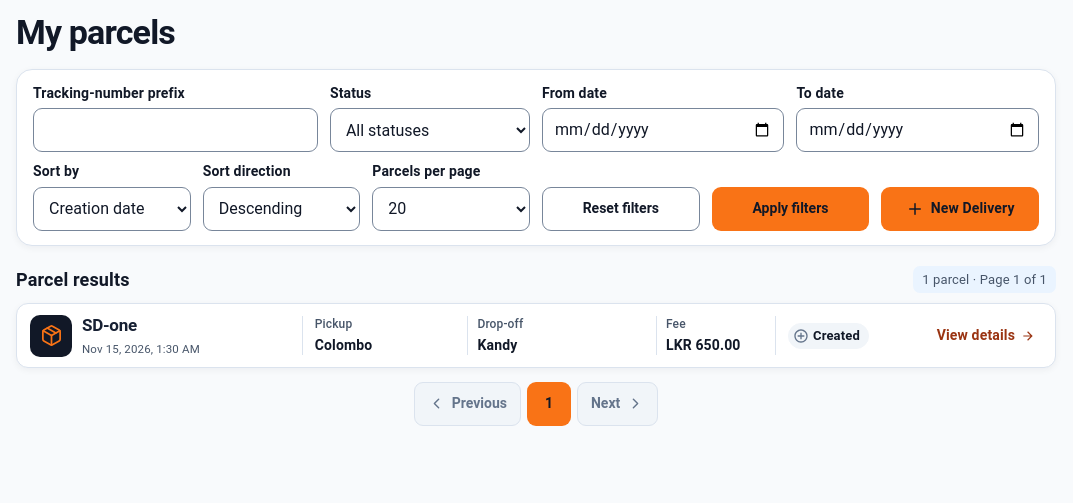
TST-040 my parcels › rejects reversed date ranges without making a request
Expected: the link "SD-one" is shown, [82,316,137,336]
Type "2026-11-15" into the date field labelled "From date" at (663, 130), box [542,108,784,152]
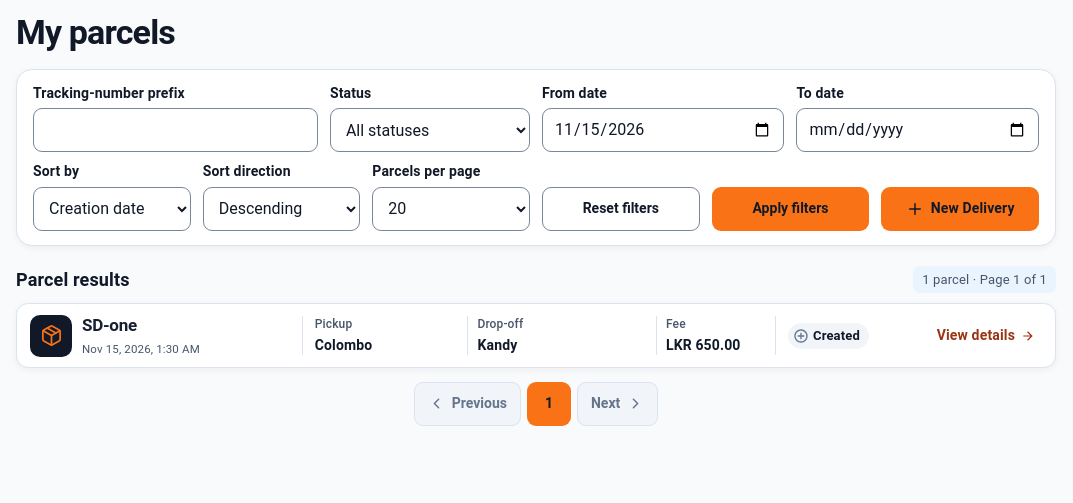
Type "2026-11-14" into the date field labelled "To date" at (918, 130), box [796,108,1039,152]
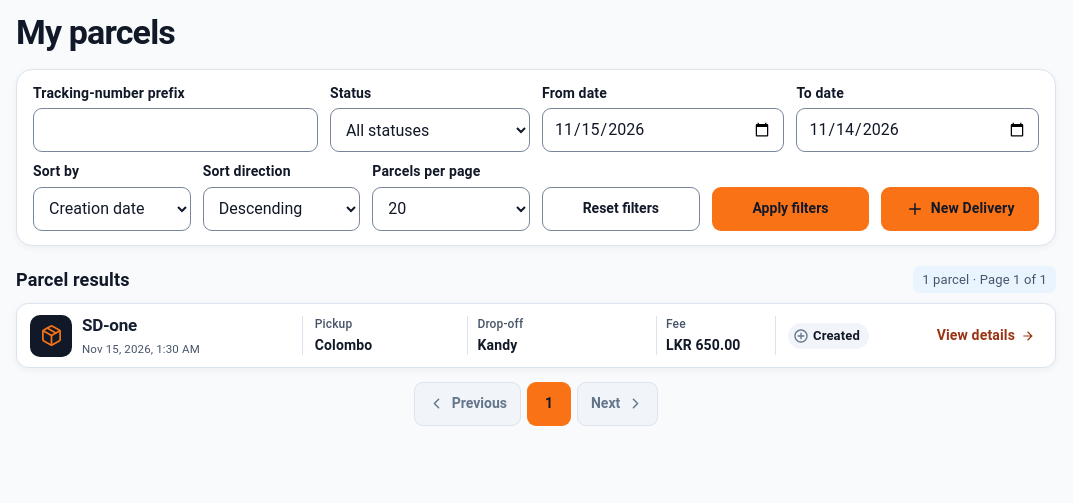
Click the button "Apply filters" at (791, 209), box [712,187,869,231]
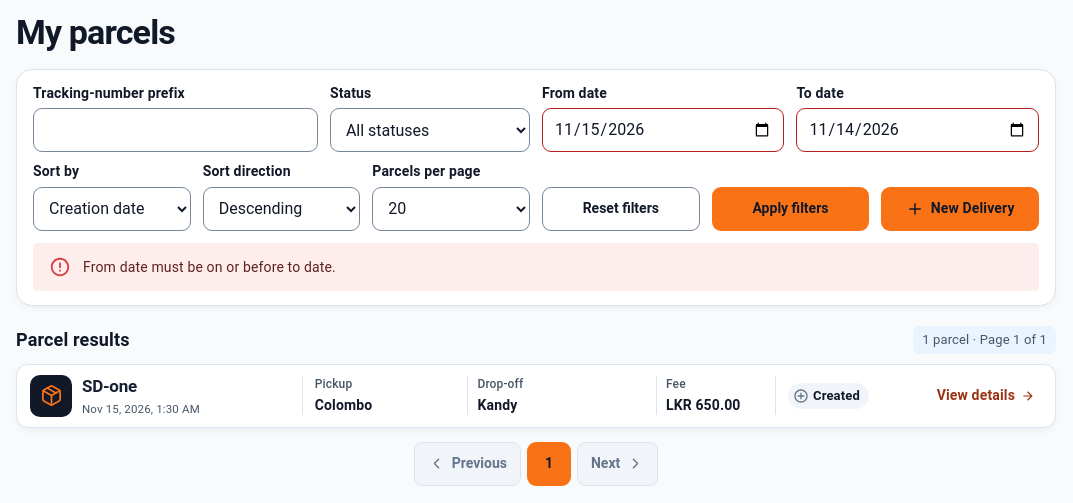
Now the message "From date must be on or before to date." is shown, box [33,243,1039,291]
